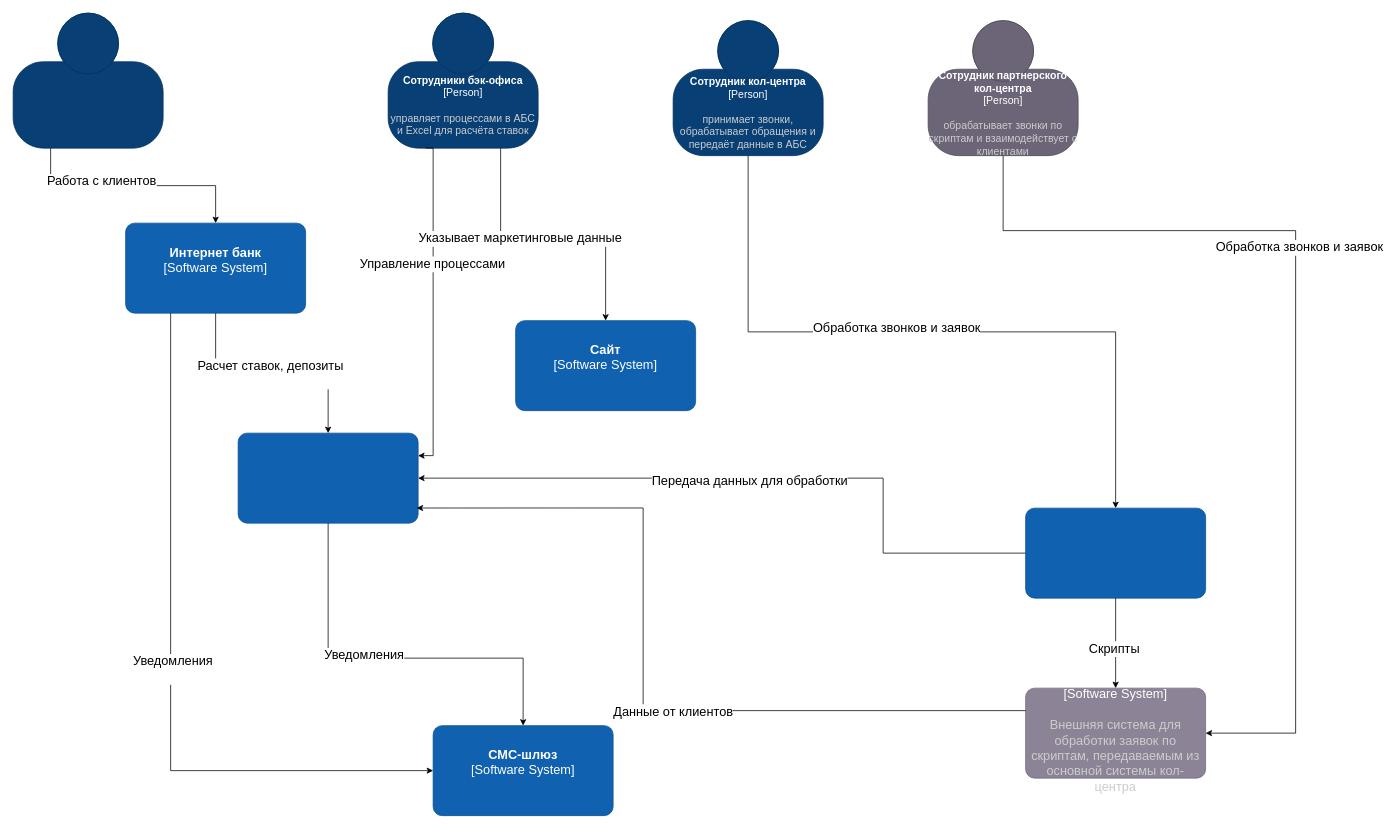
This 1396x829 diagram has some shape labels left out. Here are the shapes that lost their labels. From the top down, the centre of each, then its label:
At pixel 87 80: "Сотрудник фронт-офиса [Person] работает с клиентами через АБС и интернет-банк".
At pixel 327 477: "АБС [Software System]".
At pixel 1115 552: "Система кол-центра [Software System]".
